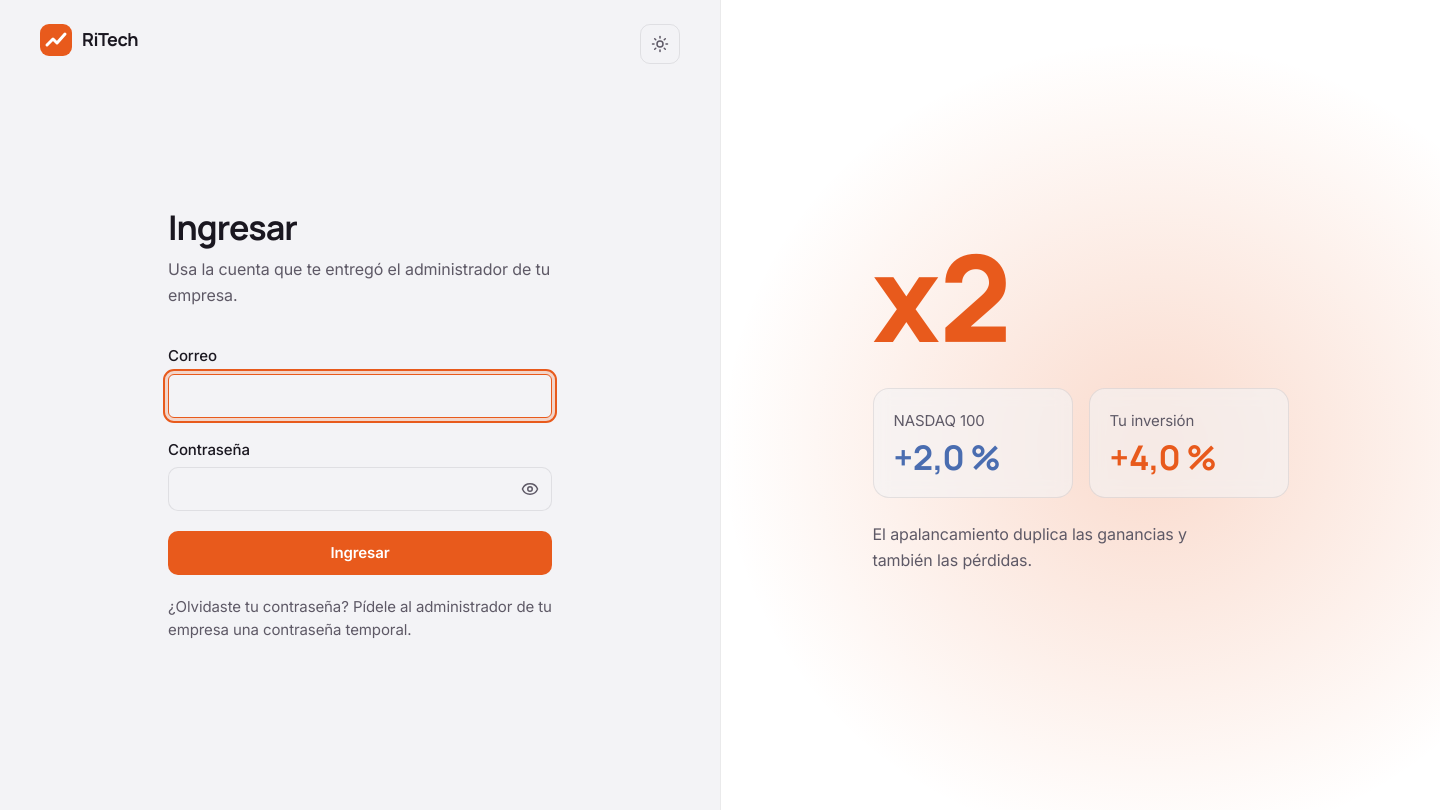
it: Login › pide correo y contraseña antes de llamar a la API
Click the button "Ingresar" at (360, 553), box [168,531,552,575]
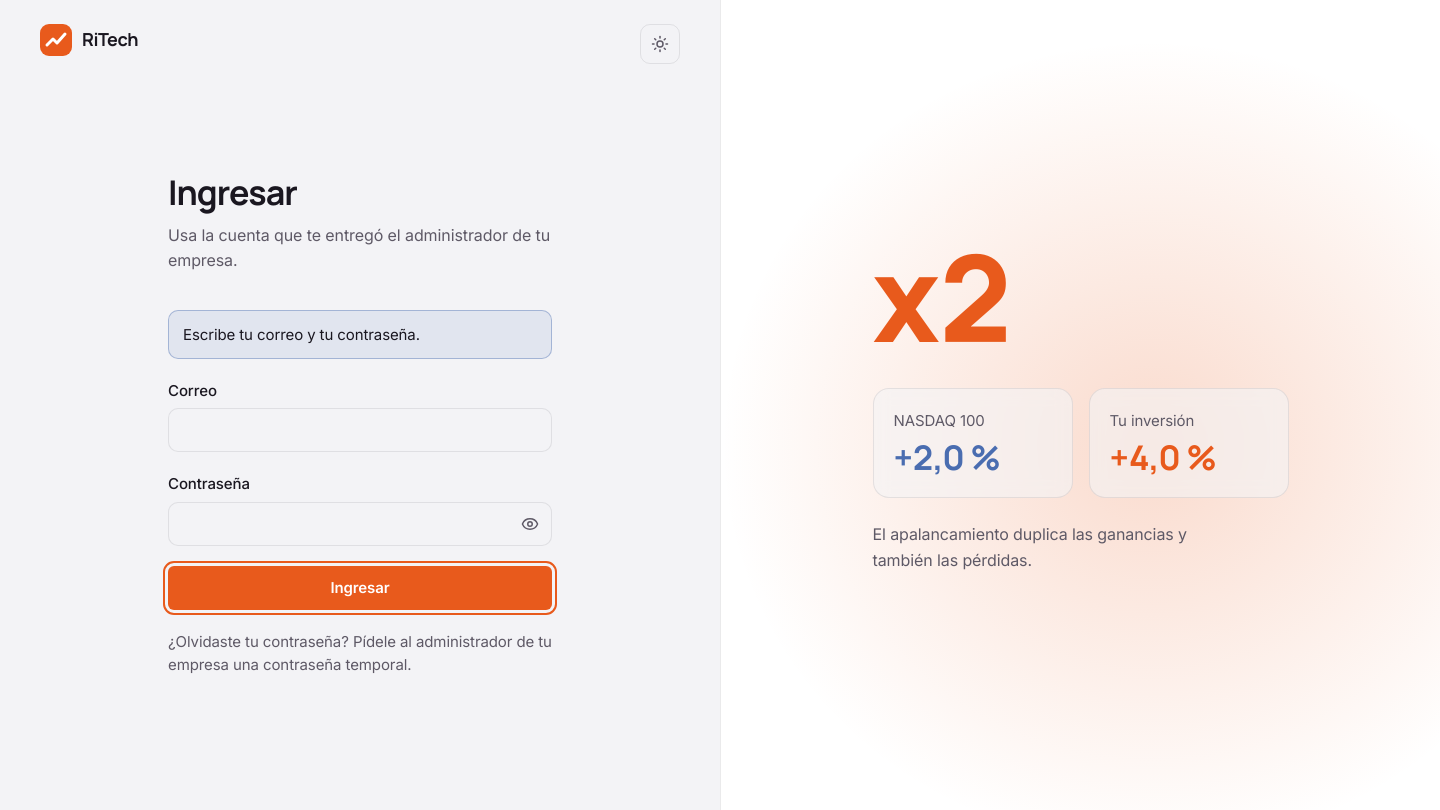
Check: the message shows "Escribe tu correo y tu contraseña", box [183,325,420,344]
